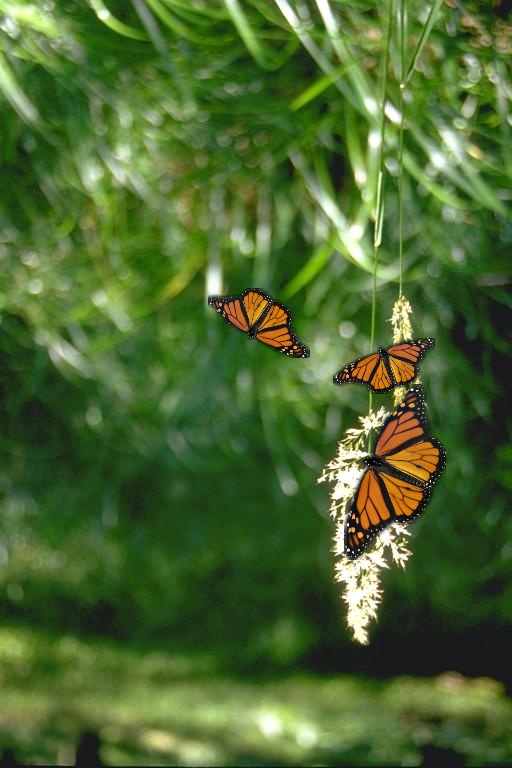danaus_plexippus: (344, 384, 446, 560), (208, 288, 310, 358), (333, 338, 435, 394)
